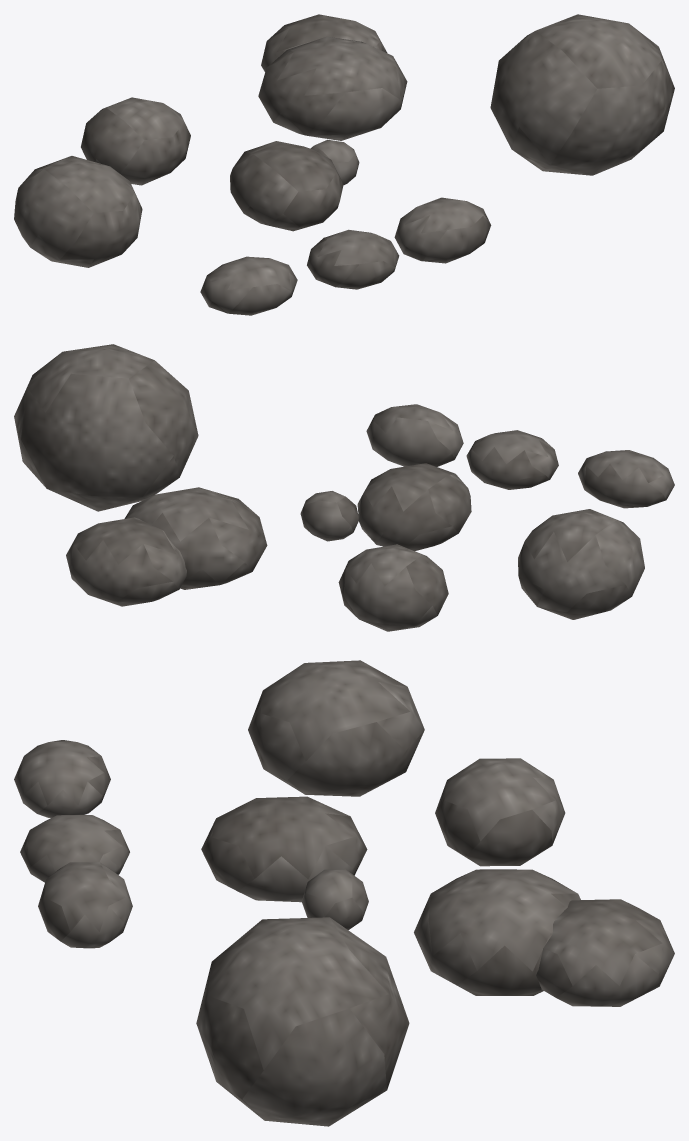
Rendered from pebble_cluster_2.glb.
3 renders of one model, top to bottom at view 1: azimuth 30°, elevation 25°; view 2: azimuth 150°, elevation 25°; view 3: azimuth 270°, elevation 25°, orthographic. The views are drawn at different scales.
Parts seen in each view (by area): view 1: pebble_cluster_2; view 2: pebble_cluster_2; view 3: pebble_cluster_2.
Boxes of the visible parts, bbox=[...] form: pebble_cluster_2: bbox=[14, 14, 674, 315]; pebble_cluster_2: bbox=[14, 344, 674, 631]; pebble_cluster_2: bbox=[14, 660, 674, 1126].
Size of the model in its own units: 1.83 by 0.4189 by 1.33.
1 material, 1 textured.
